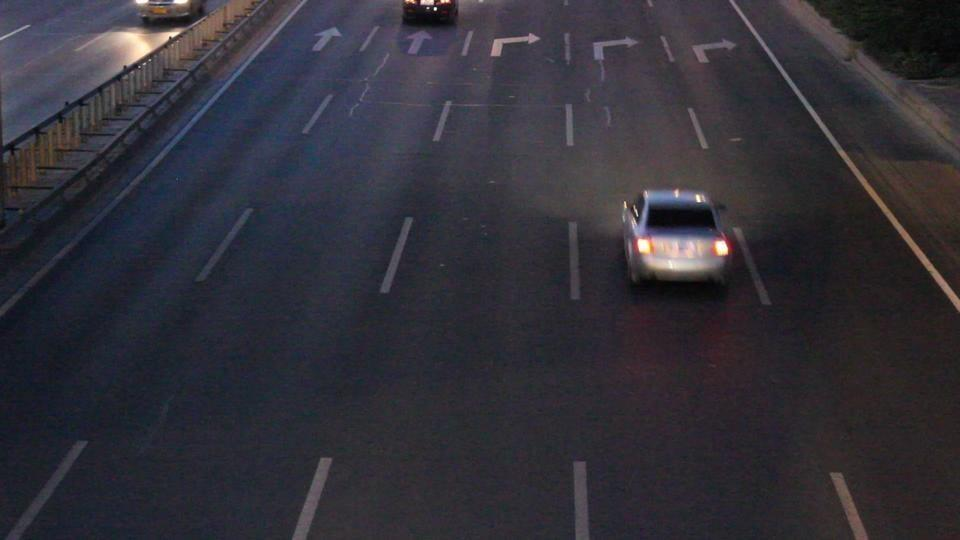car: (620, 187, 737, 289), (133, 0, 203, 26), (402, 0, 458, 25)
